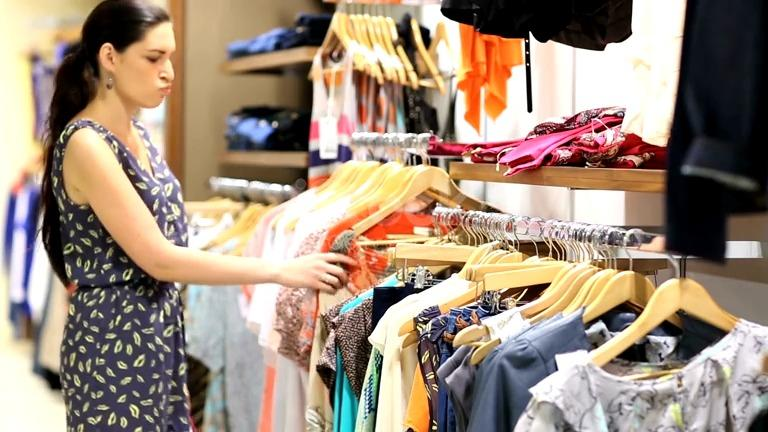Non shoplifting: (54, 0, 354, 432)
